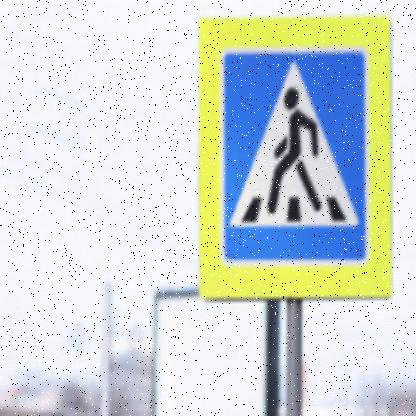Pedestrian Crossing: (227, 57, 365, 258)
